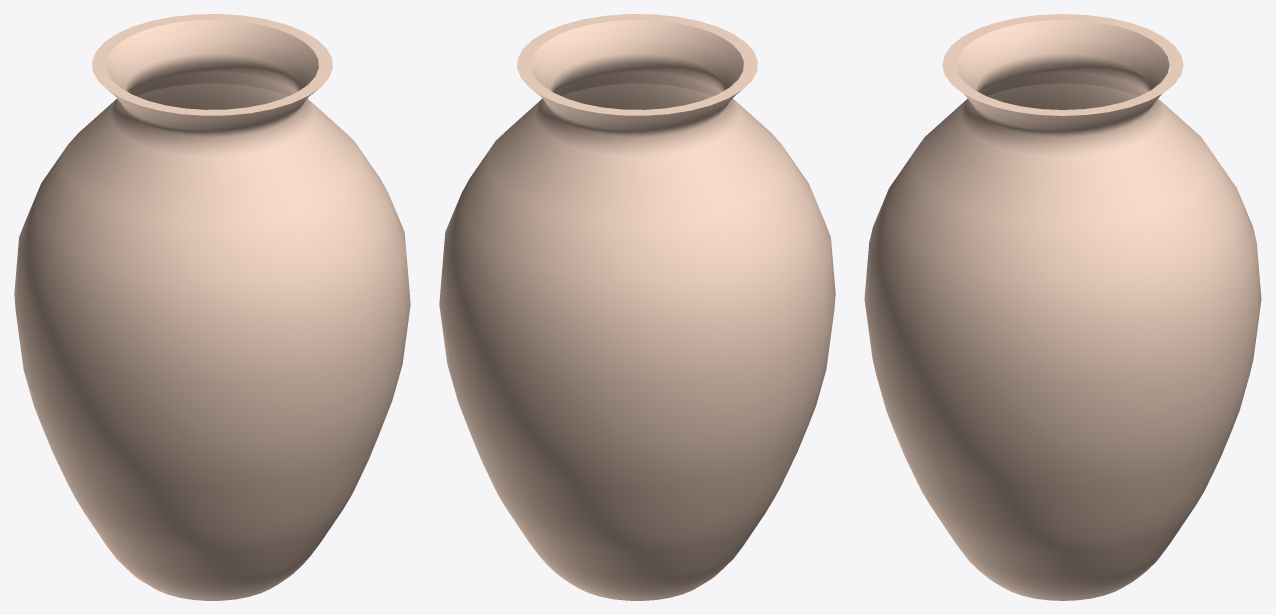
File: vaso 1.fbx
3 views of the same model, side by side, from view 1: azimuth 30°, elevation 25°; view 2: azimuth 150°, elevation 25°; view 3: azimuth 270°, elevation 25° (orthographic).
Parts seen in each view (by area): view 1: Cylinder.001; view 2: Cylinder.001; view 3: Cylinder.001.
Boxes of the visible parts, bbox=[...] form: Cylinder.001: bbox=[14, 14, 410, 600]; Cylinder.001: bbox=[439, 14, 835, 600]; Cylinder.001: bbox=[864, 14, 1261, 600].
Size of the model in its own units: 55.65 by 78.12 by 55.65.
